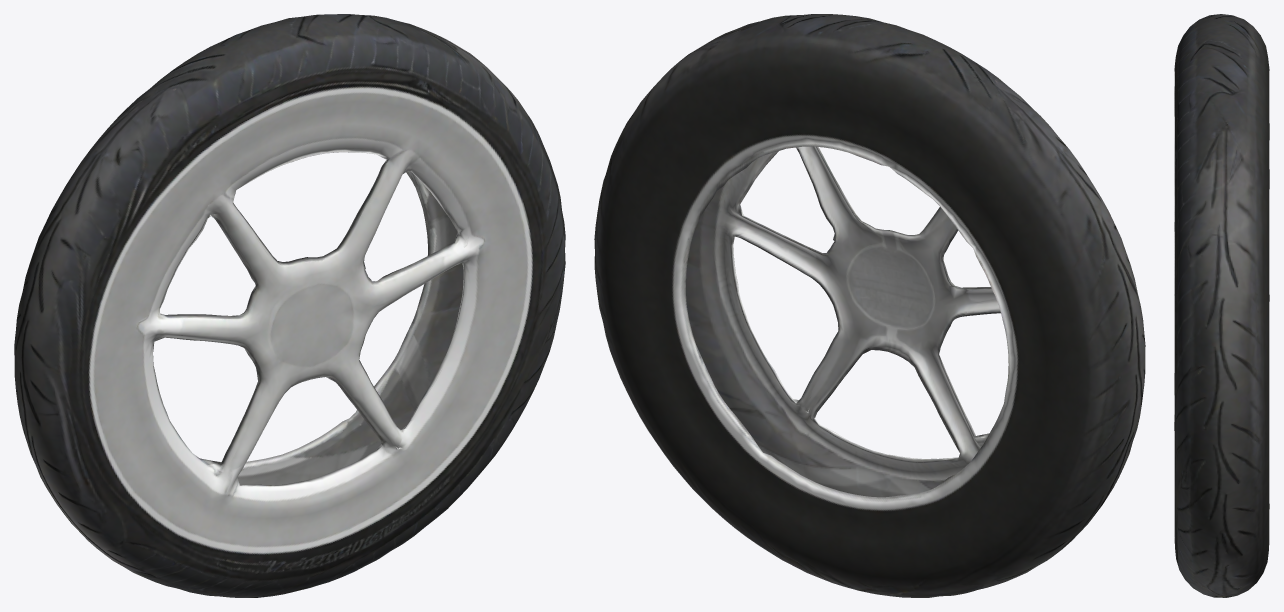
The model's file is Motorcycle_Tire_texture.fbx.
3 renders of one model, left to right at view 1: azimuth 30°, elevation 25°; view 2: azimuth 150°, elevation 25°; view 3: azimuth 270°, elevation 25°, orthographic. The views are drawn at different scales.
Visible parts, largest first — view 1: Mesh1_Mesh1.076; view 2: Mesh1_Mesh1.076; view 3: Mesh1_Mesh1.076.
Boxes of the visible parts, box(x1,y1,x2,y2) form: Mesh1_Mesh1.076: box(14, 14, 565, 597); Mesh1_Mesh1.076: box(594, 14, 1145, 597); Mesh1_Mesh1.076: box(1174, 14, 1269, 597).
Bounding box in the file's own units: 200 × 200 × 32.57.
Materials: 1 (1 with a texture image).
